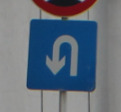u_turn: (26, 18, 98, 91)
